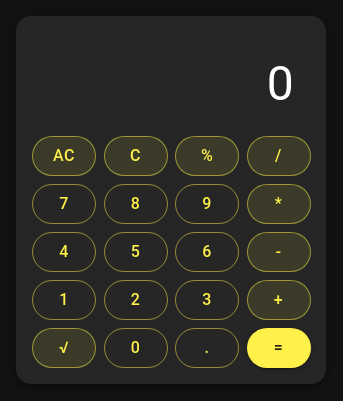
it: Calculator App › should perform multiplication correctly
The image size is (343, 401).
Click the button "4".
click(64, 252)  # box [32,232,96,272]
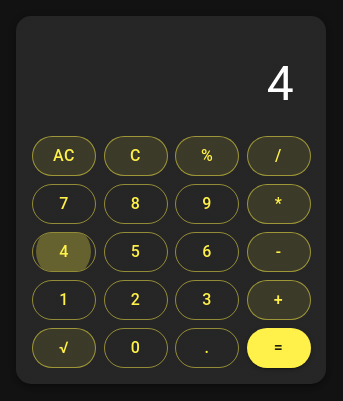
Click the button "*".
click(279, 204)  # box [247,184,311,224]
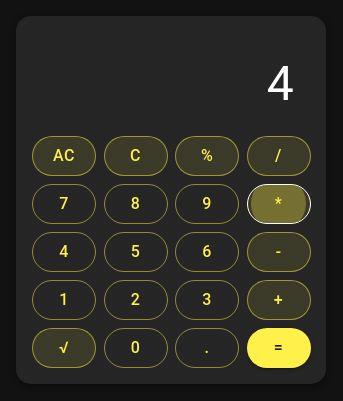
Click the button "3".
click(207, 300)  # box [175,280,239,320]
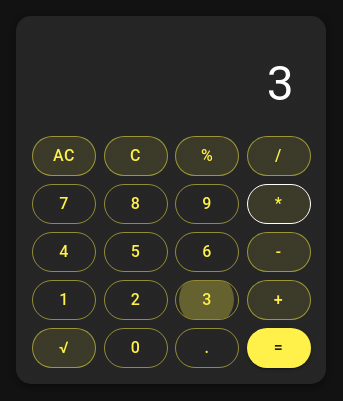
Click the button "=".
click(279, 348)  # box [247,328,311,368]
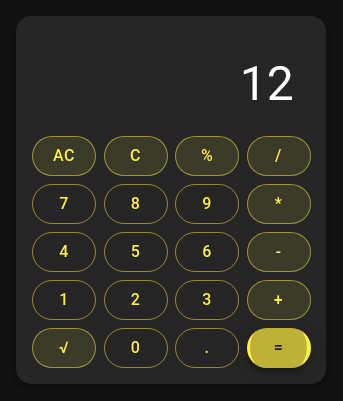
Expected: the text with test id "output" reads "12", [240,55,294,112]
